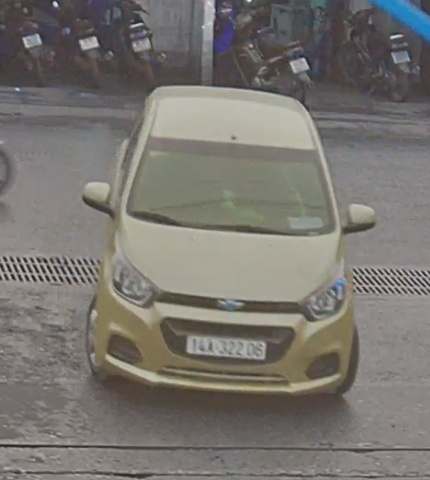vehicle plate: (184, 328, 270, 370)
